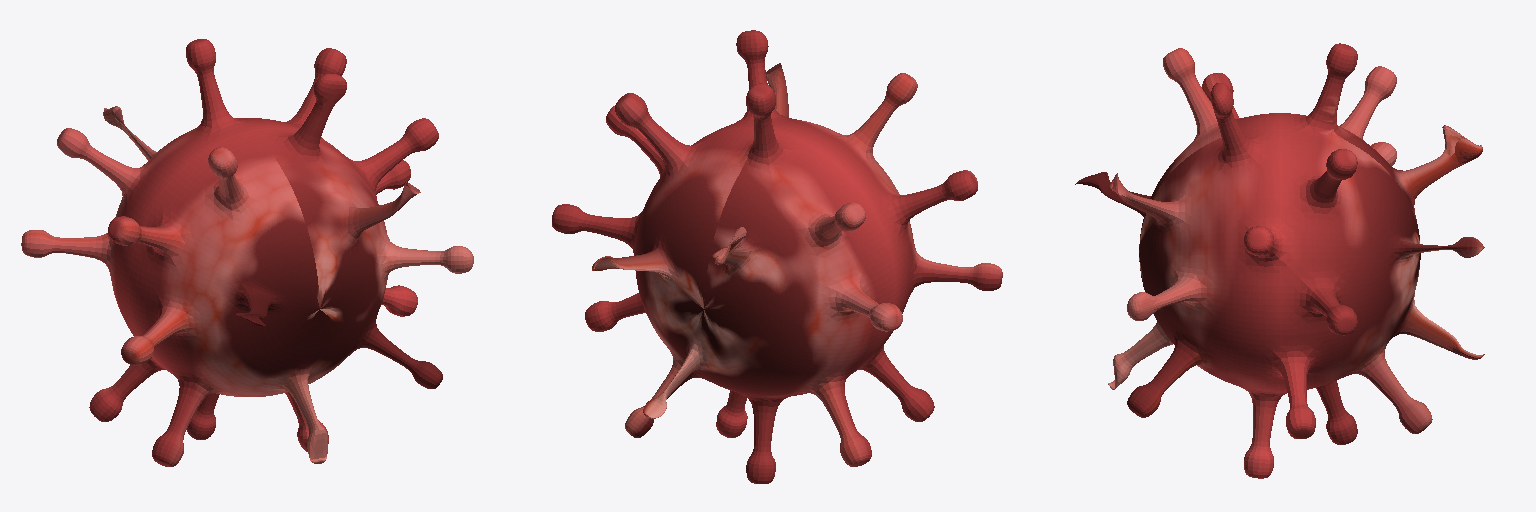
3 renders of one model, left to right at view 1: azimuth 30°, elevation 25°; view 2: azimuth 150°, elevation 25°; view 3: azimuth 270°, elevation 25°, orthographic.
Parts seen in each view (by area): view 1: Sphere001; view 2: Sphere001; view 3: Sphere001.
Boxes of the visible parts, <box> form: Sphere001: <box>21,39,473,466</box>; Sphere001: <box>552,30,1002,483</box>; Sphere001: <box>1075,43,1484,478</box>.
Bounding box in the file's own units: 143 × 149 × 139.
1 materials, 1 textured.